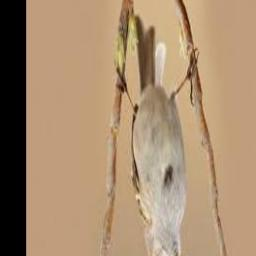Sparrow: (116, 17, 199, 256)
